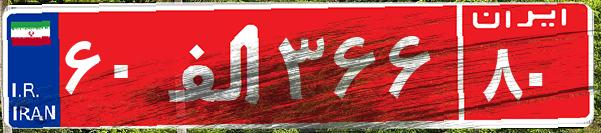0: (110, 28, 158, 105), (525, 38, 570, 115)
3: (273, 28, 330, 110)
6: (385, 28, 445, 110), (330, 28, 385, 110), (57, 26, 110, 107)
8: (475, 38, 525, 113)
الف: (158, 15, 273, 115)
